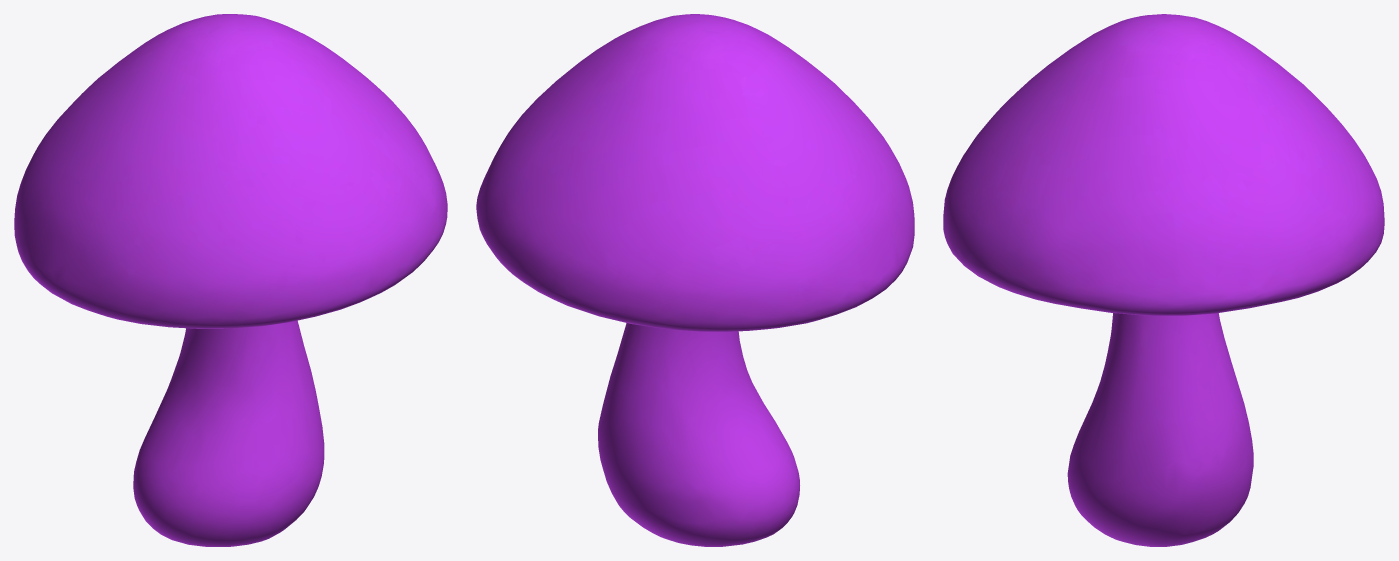
File: shroom_purple.glb
3 views of the same model, side by side, from view 1: azimuth 30°, elevation 25°; view 2: azimuth 150°, elevation 25°; view 3: azimuth 270°, elevation 25° (orthographic).
Parts seen in each view (by area): view 1: tripo_node_70cb0f8a-e769-41dd-8684-b3cb4d95347c; view 2: tripo_node_70cb0f8a-e769-41dd-8684-b3cb4d95347c; view 3: tripo_node_70cb0f8a-e769-41dd-8684-b3cb4d95347c.
Boxes of the visible parts, x1,y1,x2,y2 form: tripo_node_70cb0f8a-e769-41dd-8684-b3cb4d95347c: (14,14,447,546); tripo_node_70cb0f8a-e769-41dd-8684-b3cb4d95347c: (476,14,914,546); tripo_node_70cb0f8a-e769-41dd-8684-b3cb4d95347c: (943,14,1384,546).
Bounding box in the file's own units: 0.803 × 0.9998 × 0.7991.
Materials: 1 (1 with a texture image).
